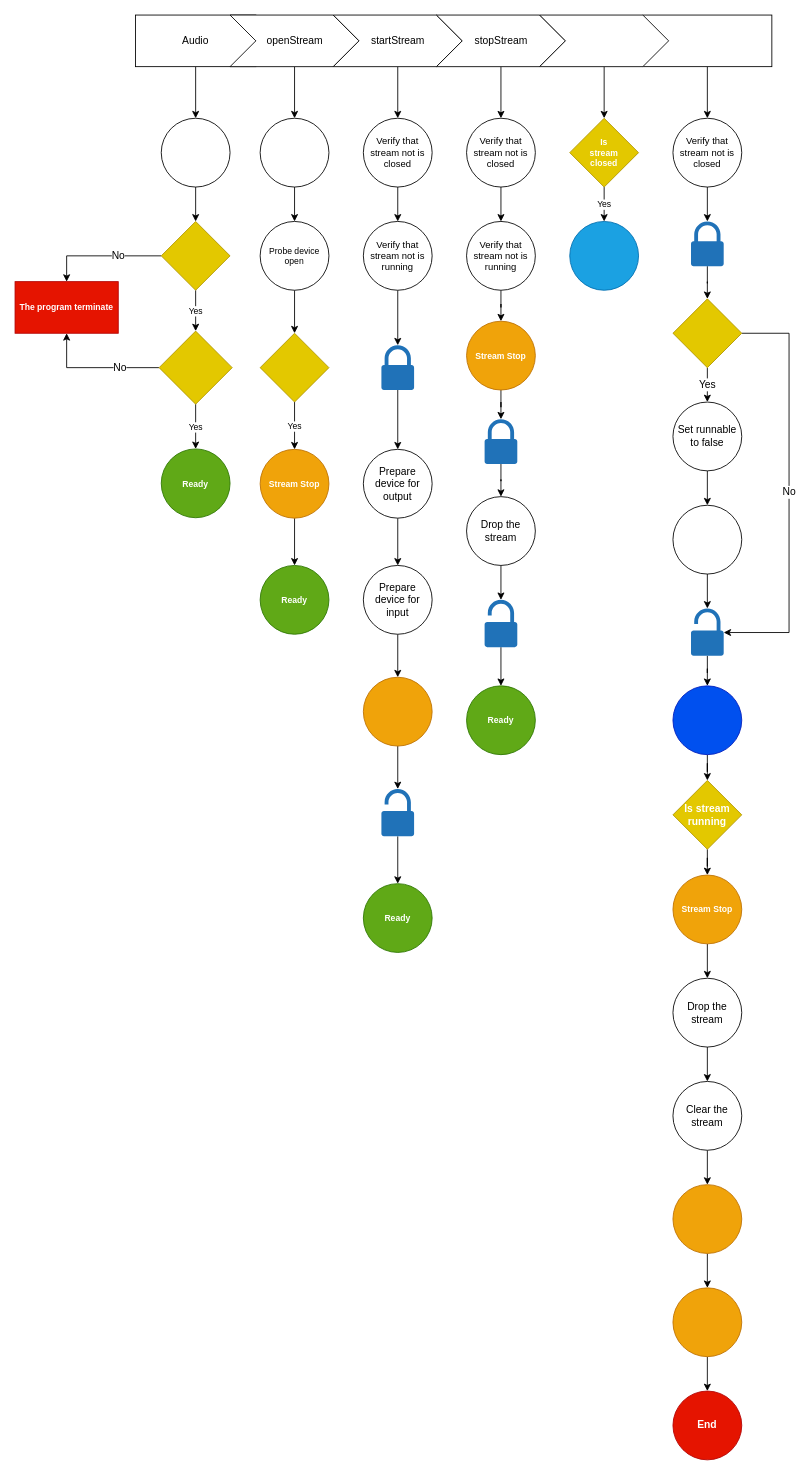
Some shapes in this 811 by 1475 pixel diagram are drawn without their labels. The shapes that lost their labels are listed below. From the top down, each one's centre as x and y in pixels, then its label:
At pixel 604 40: "isStreamOpen".
At pixel 707 40: "closeStream".
At pixel 195 152: "Select a Audio Architecture".
At pixel 294 152: "Assert that stream not is open".
At pixel 195 255: "Exist Audio Architecture".
At pixel 604 255: "Return False".
At pixel 707 333: "Is stream stoped".
At pixel 195 367: "Have minimum a device".
At pixel 294 367: "Is open device".
At pixel 707 539: "Wait thread for a signal".
At pixel 397 711: "Stream Run".
At pixel 707 720: "Join Thread".
At pixel 707 1218: "Stream Initialized".
At pixel 707 1322: "Stream Close".
